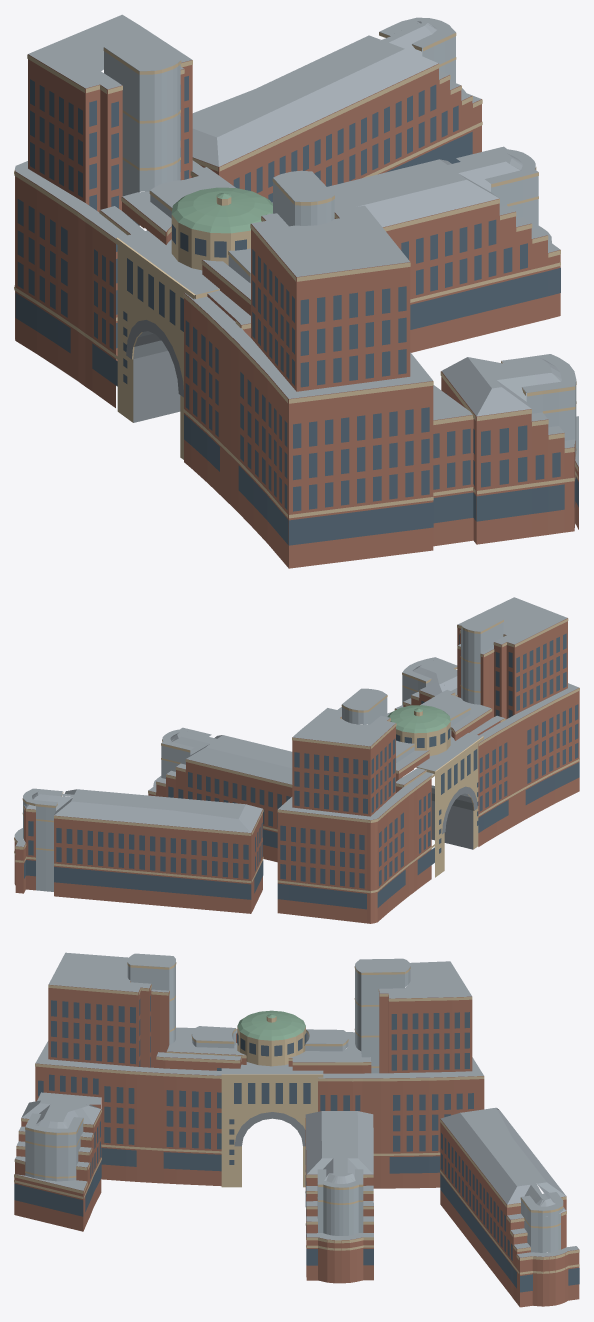
The model's file is bos-rowes-wharf.glb.
3 views of the same model, one above another, from view 1: azimuth 30°, elevation 25°; view 2: azimuth 150°, elevation 25°; view 3: azimuth 270°, elevation 25° (orthographic). The views are drawn at different scales.
Visible parts, largest first — view 1: Rowes Wharf; view 2: Rowes Wharf; view 3: Rowes Wharf.
Part boxes in pixels (x1,y1,x2,y2): Rowes Wharf: (14,14,578,568); Rowes Wharf: (14,597,579,923); Rowes Wharf: (14,952,579,1307).
Size of the model in its own units: 132 by 70.7 by 181.
